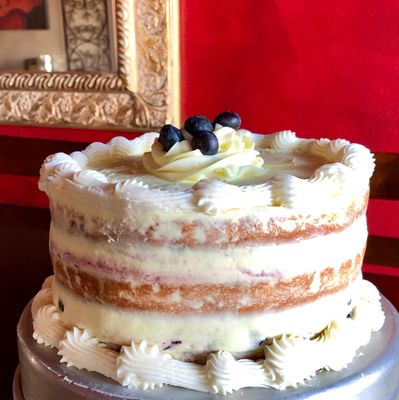sushi: (29, 126, 386, 393)
